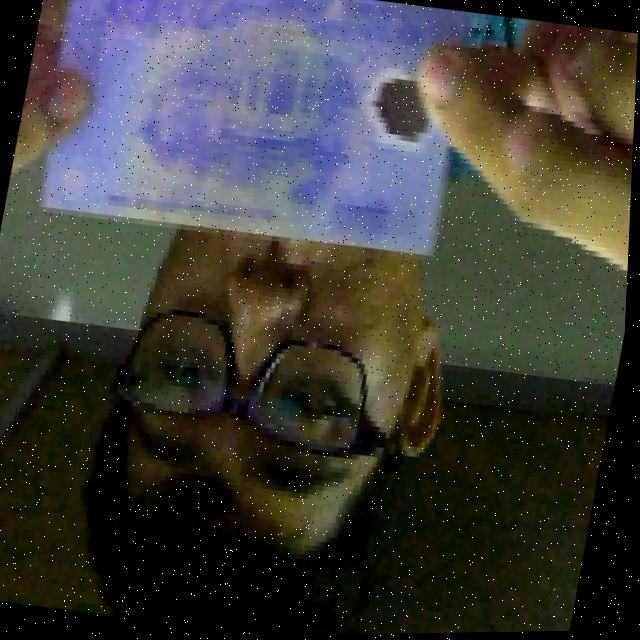20 000 VND: (20, 0, 489, 273)
